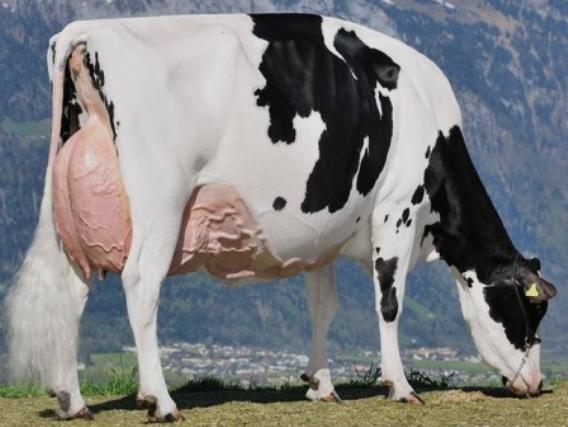cow: (50, 15, 547, 420)
